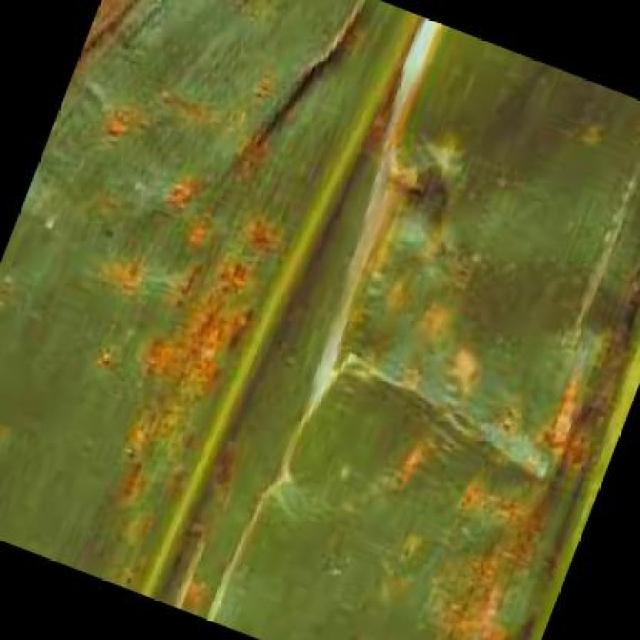Corn_Rust: (76, 94, 536, 558)
